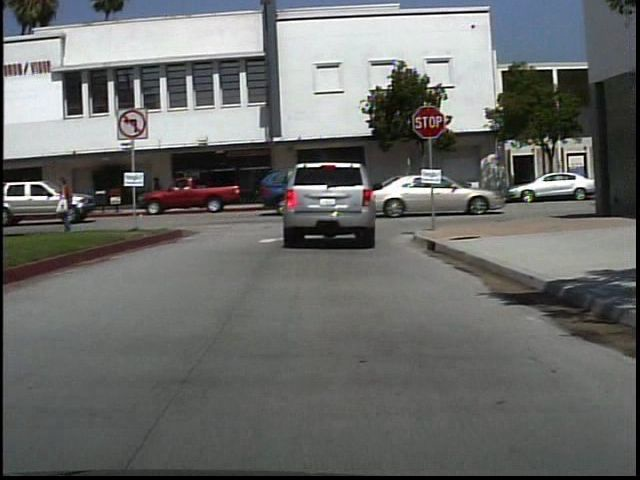person: (51, 173, 88, 235), (284, 161, 313, 235), (150, 172, 173, 211), (168, 173, 187, 209)
